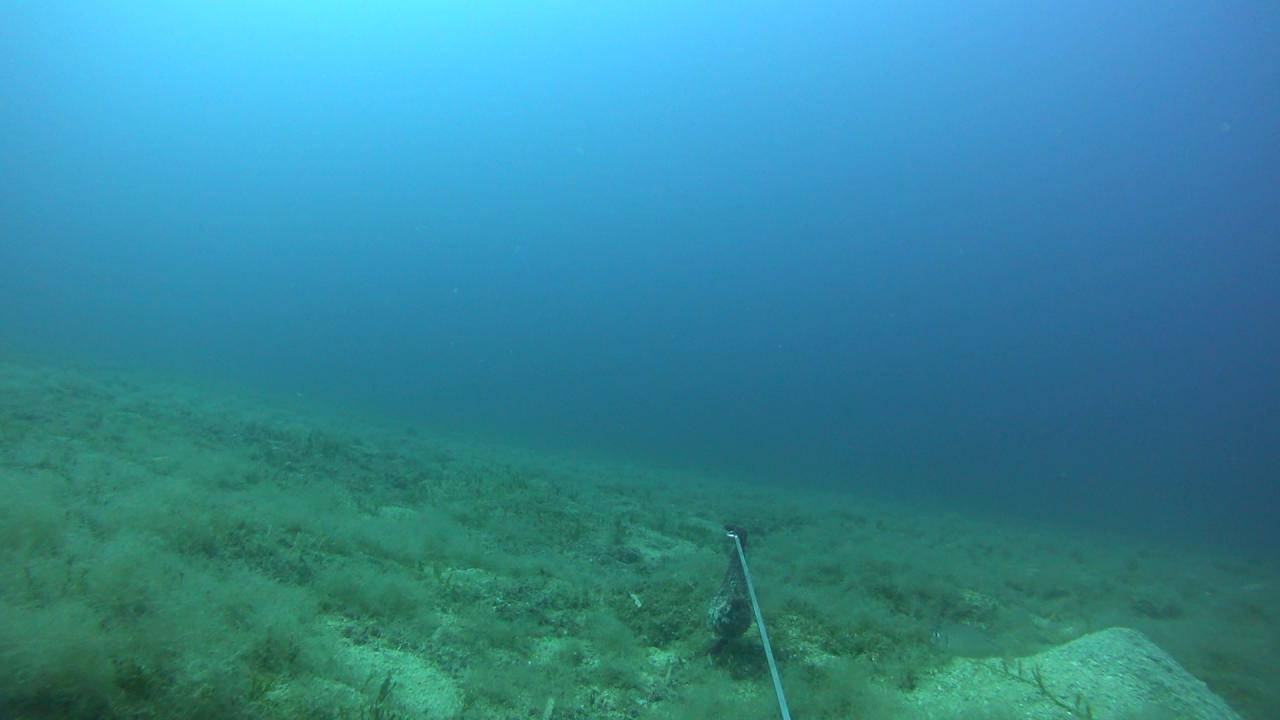pagellus: (928, 620, 1017, 667)
